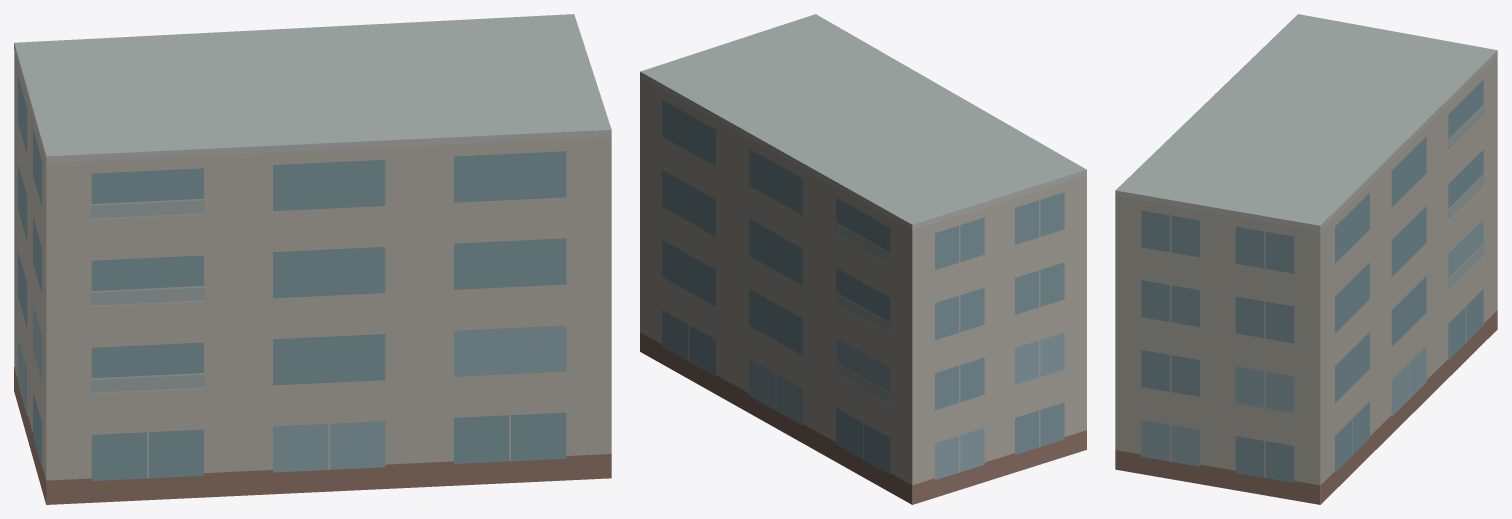
File: survey-upis-32823102.glb
The picture shows the model from 3 angles, left to right: view 1: azimuth 30°, elevation 25°; view 2: azimuth 150°, elevation 25°; view 3: azimuth 270°, elevation 25°; orthographic projection. The views are drawn at different scales.
Parts seen in each view (by area): view 1: survey-upis-32823102.tmp; view 2: survey-upis-32823102.tmp; view 3: survey-upis-32823102.tmp.
Boxes of the visible parts, x1=… form: survey-upis-32823102.tmp: x1=14, y1=14, x2=611, y2=504; survey-upis-32823102.tmp: x1=640, y1=14, x2=1086, y2=504; survey-upis-32823102.tmp: x1=1115, y1=14, x2=1497, y2=504.
Bounding box in the file's own units: 19.86 × 12.2 × 15.15.
